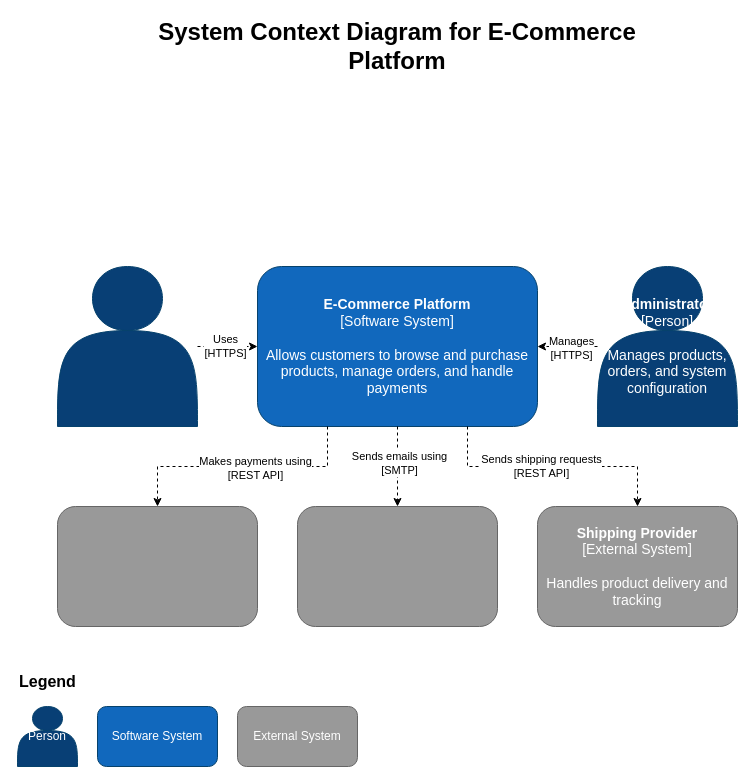
Some shapes in this 755 by 784 pixel diagram are drawn without their labels. The centre of each missing label's shape, as x and y in pixels:
Customer [Person] A customer who wants to purchase products online: (x=127, y=346)
Email Service [External System] Sends order confirmations and notifications: (x=397, y=566)
Payment Provider [External System] Processes credit card and online payments: (x=157, y=566)
